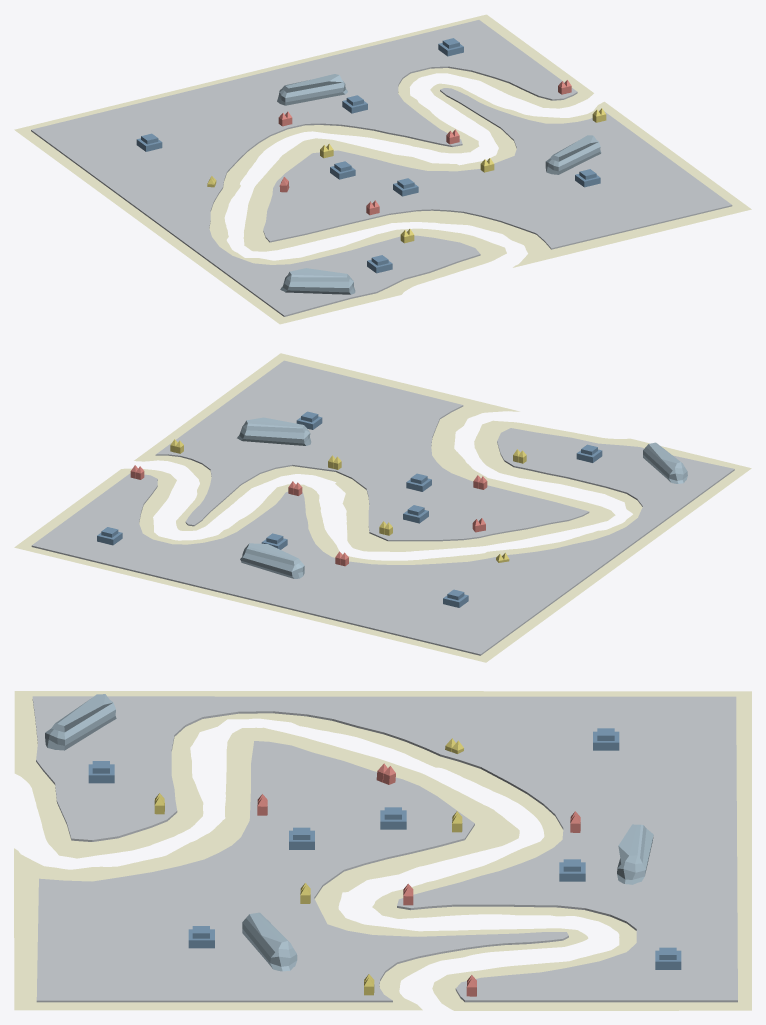
The model's file is bris_new.glb.
3 views of the same model, one above another, from view 1: azimuth 30°, elevation 25°; view 2: azimuth 150°, elevation 25°; view 3: azimuth 270°, elevation 25° (orthographic). The views are drawn at different scales.
Parts seen in each view (by area): view 1: 贝塞尔曲线.001, 贝塞尔曲线.003, 贝塞尔曲线, 贝塞尔曲线.002, 立方体.023, 立方体.004, 立方体.022; view 2: 贝塞尔曲线.001, 贝塞尔曲线.003, 贝塞尔曲线, 贝塞尔曲线.002, 立方体.022, 立方体.004, 立方体.023; view 3: 贝塞尔曲线.001, 贝塞尔曲线.003, 贝塞尔曲线, 贝塞尔曲线.002, 立方体.023, 立方体.022, 立方体.004, 立方体.024, 立方体.025, 立方体.005, 立方体.027, 立方体.028 (+2 smaller).
Part boxes in pixels (x1,y1,x2,y2): 贝塞尔曲线.001: [31, 20, 577, 316]; 贝塞尔曲线.003: [263, 88, 732, 249]; 贝塞尔曲线: [14, 14, 593, 324]; 贝塞尔曲线.002: [243, 83, 751, 267]; 立方体.023: [280, 268, 355, 294]; 立方体.004: [277, 74, 347, 105]; 立方体.022: [545, 135, 601, 174]; 贝塞尔曲线.001: [31, 428, 734, 655]; 贝塞尔曲线.003: [155, 360, 589, 541]; 贝塞尔曲线: [14, 420, 751, 662]; 贝塞尔曲线.002: [134, 353, 615, 551]; 立方体.022: [237, 417, 311, 445]; 立方体.004: [240, 543, 304, 578]; 立方体.023: [643, 442, 687, 483]; 贝塞尔曲线.001: [32, 696, 737, 1002]; 贝塞尔曲线.003: [36, 741, 568, 1002]; 贝塞尔曲线: [14, 691, 751, 1010]; 贝塞尔曲线.002: [14, 727, 588, 1010]; 立方体.023: [45, 694, 116, 750]; 立方体.022: [242, 912, 297, 971]; 立方体.004: [617, 824, 653, 884]; 立方体.024: [559, 859, 585, 881]; 立方体.025: [380, 807, 406, 829]; 立方体.005: [188, 926, 214, 948]; 立方体.027: [88, 761, 114, 783]; 立方体.028: [593, 728, 619, 750].
Bounding box in the file's own units: 16.37 × 0.7148 × 15.96.
